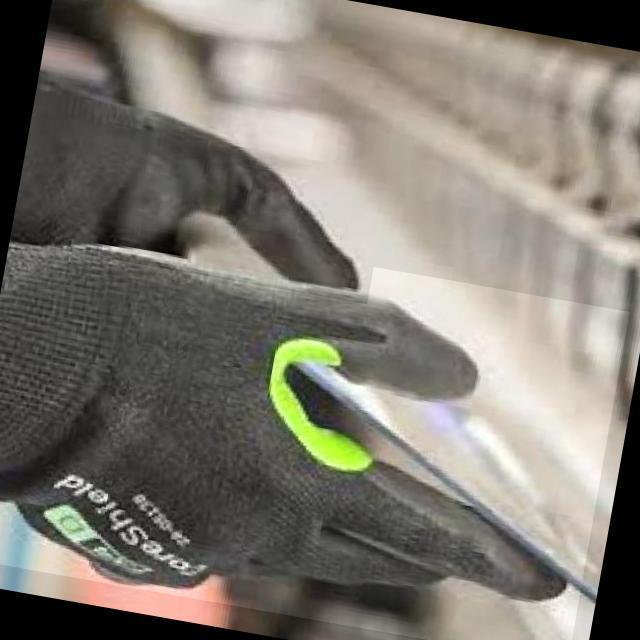Gloves: (0, 203, 629, 640), (9, 57, 399, 304)
